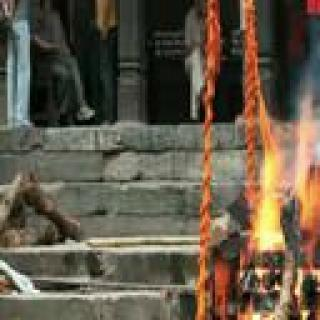fire: (253, 86, 320, 320)
